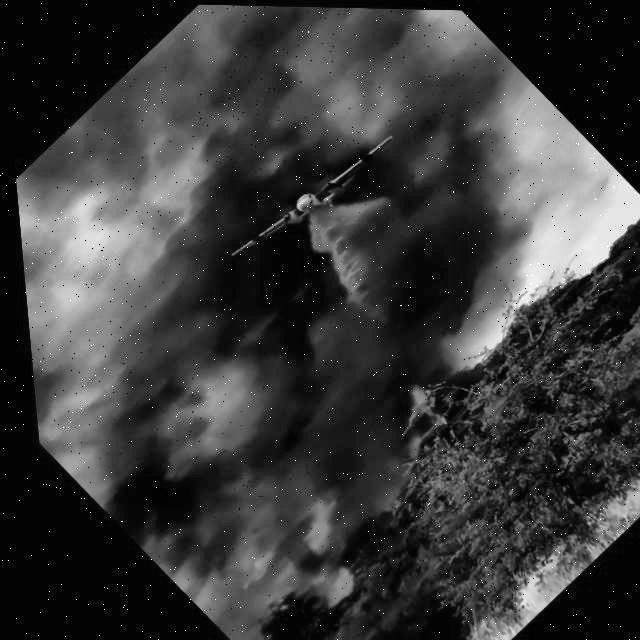Smoke: (13, 187, 408, 613), (66, 1, 501, 280)
